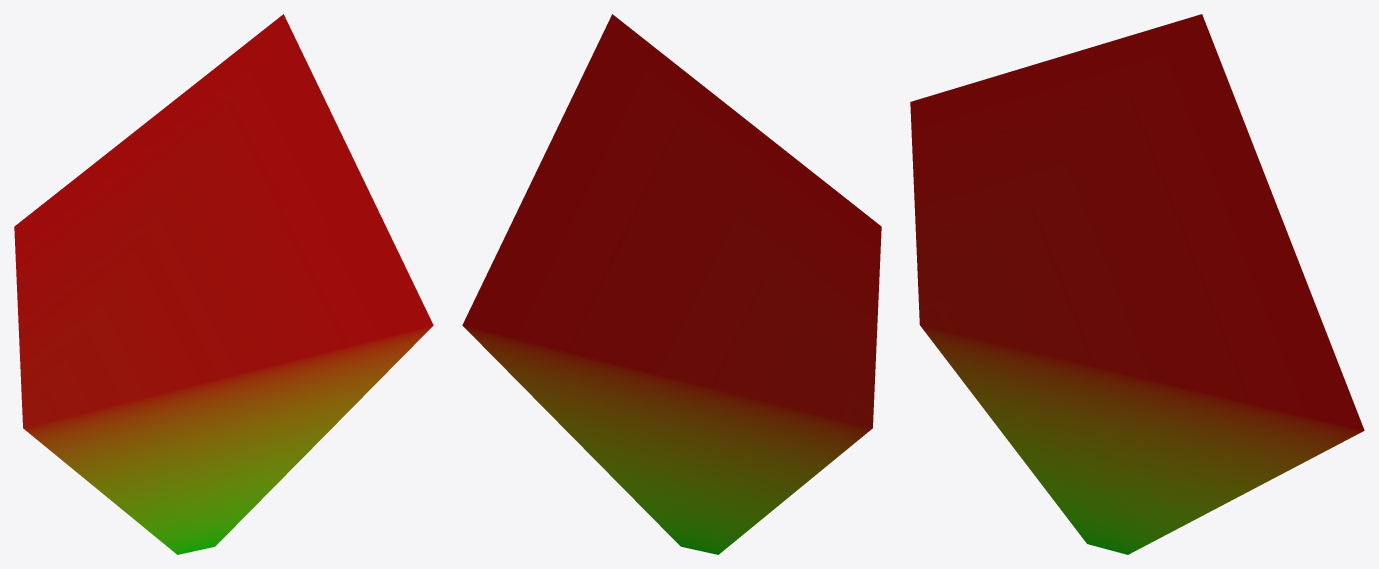
The model's file is Great Brome_LOD5_Var1_tjugaikia.fbx.
The picture shows the model from 3 angles, left to right: view 1: azimuth 30°, elevation 25°; view 2: azimuth 150°, elevation 25°; view 3: azimuth 330°, elevation 25°; orthographic projection. The views are drawn at different scales.
Parts seen in each view (by area): view 1: _0f73_Var1_LOD5; view 2: _0f73_Var1_LOD5; view 3: _0f73_Var1_LOD5.
Part boxes in pixels (x1,y1,x2,y2): _0f73_Var1_LOD5: (14,14,433,554); _0f73_Var1_LOD5: (462,14,881,554); _0f73_Var1_LOD5: (910,14,1364,554).
Bounding box in the file's own units: 70.23 × 82.57 × 8.94e-07.
